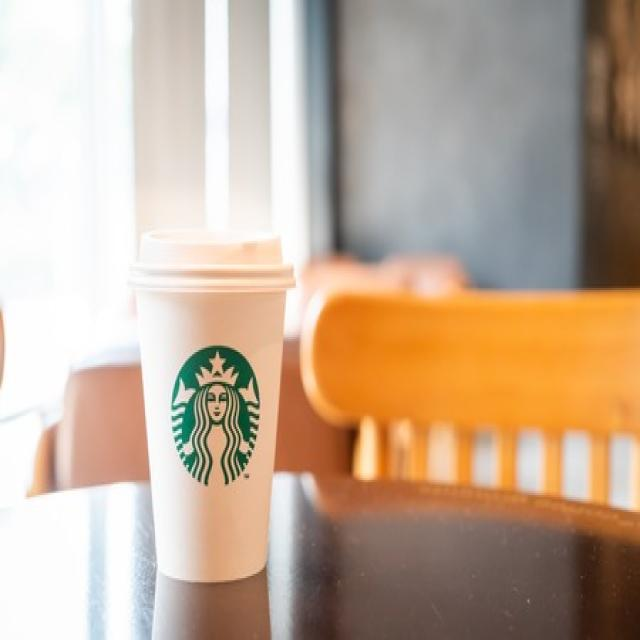starbucks: (168, 340, 262, 492)
